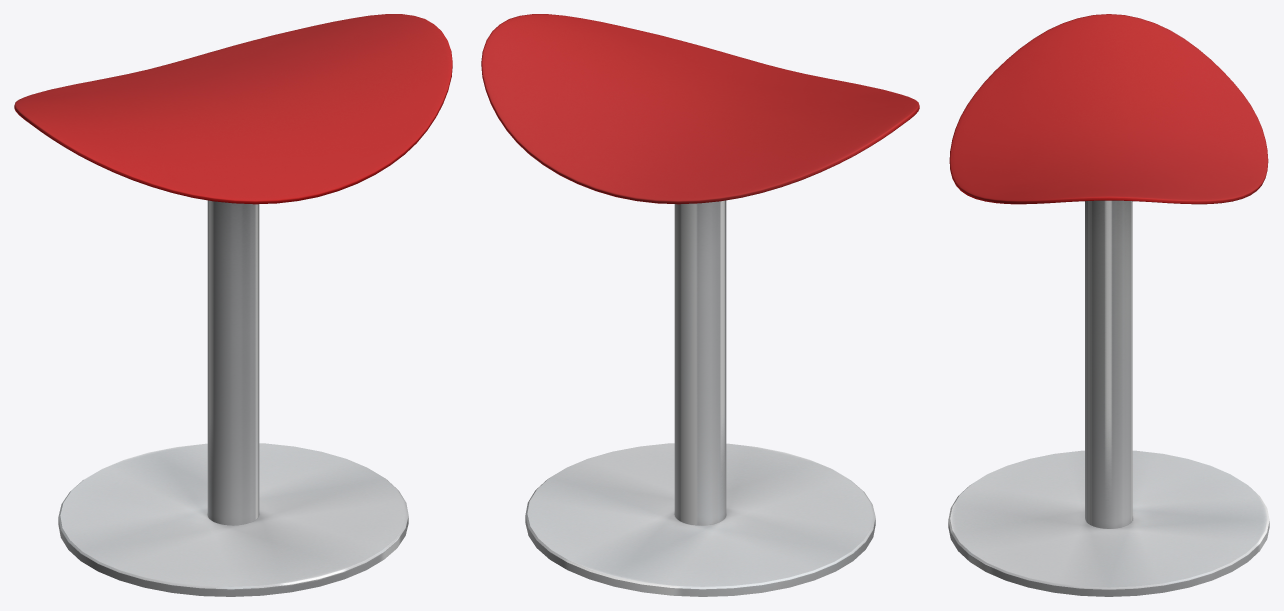
Rendered from coma_hocker_weiss_blue_laquered_metal.glb.
3 renders of one model, left to right at view 1: azimuth 30°, elevation 25°; view 2: azimuth 150°, elevation 25°; view 3: azimuth 270°, elevation 25°, orthographic. The views are drawn at different scales.
Visible parts, largest first — view 1: coma_hocker_weiss-red; view 2: coma_hocker_weiss-red; view 3: coma_hocker_weiss-red.
Boxes of the visible parts, x1,y1,x2,y2 form: coma_hocker_weiss-red: [14, 14, 452, 596]; coma_hocker_weiss-red: [481, 14, 919, 596]; coma_hocker_weiss-red: [948, 14, 1269, 596].
Bounding box in the file's own units: 0.4209 × 0.4502 × 0.311.
Materials: 1 (1 with a texture image).
